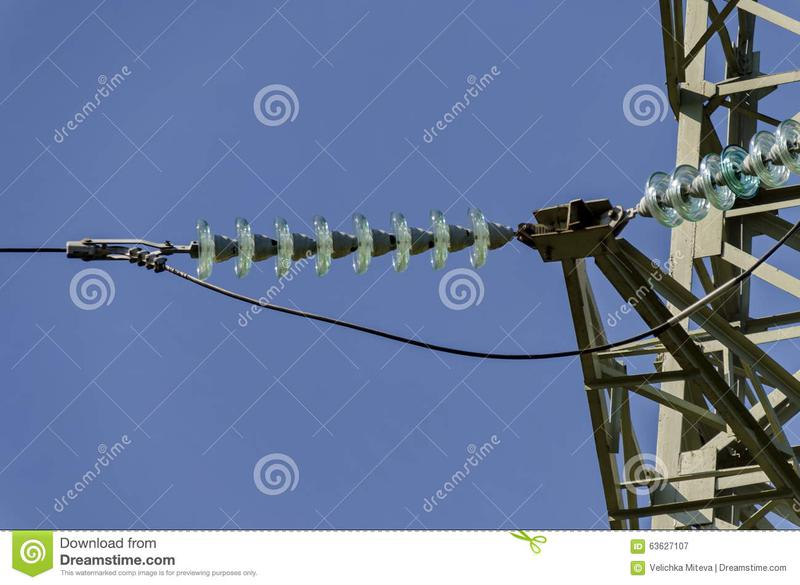isolator: (193, 205, 490, 283), (643, 119, 800, 228)
